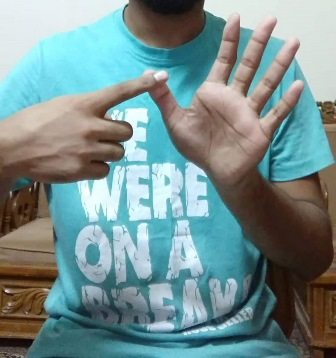a: (57, 13, 303, 176)
